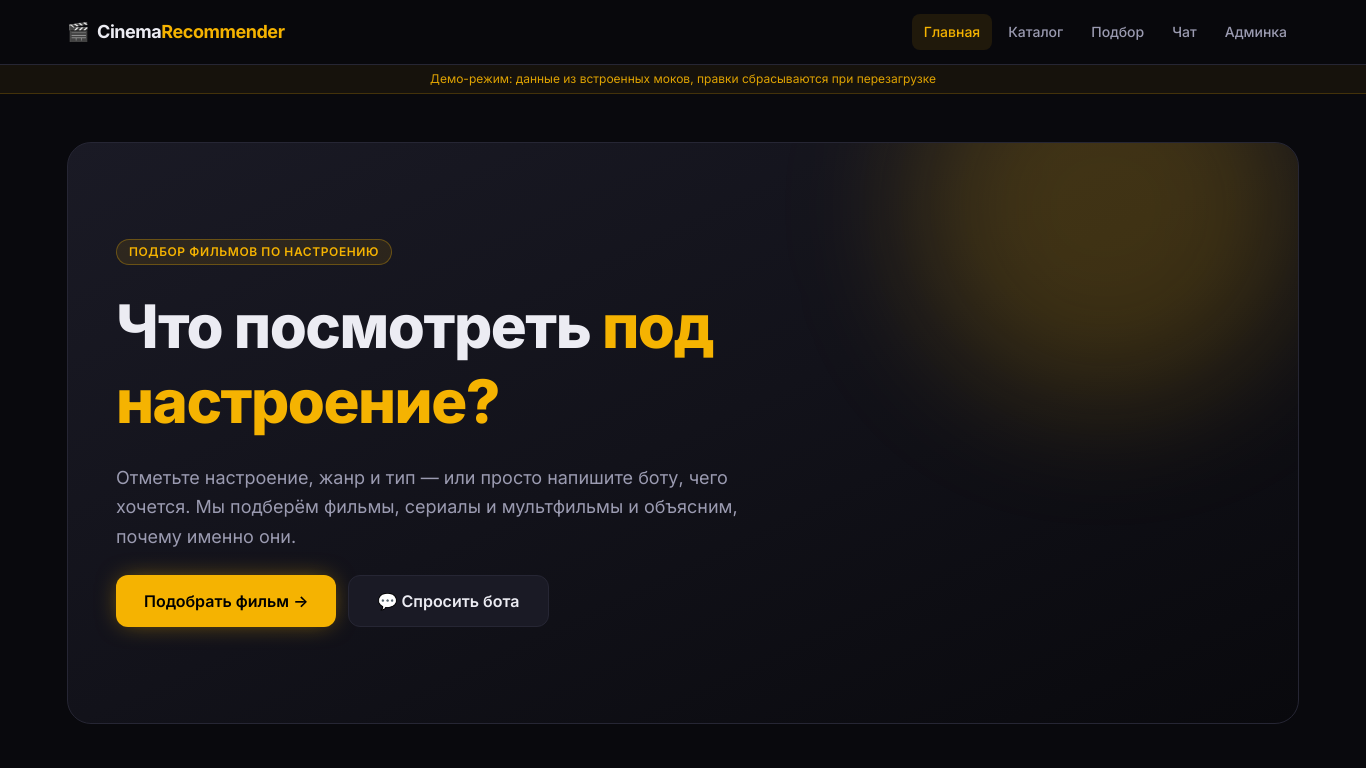
Test case: Навигация › переключает страницы и подсвечивает активный пункт
Expected: the heading reads "Что посмотреть под настроение?", [116,289,788,439]
Click the link "Каталог": (1036, 32) [1008,23,1063,40]
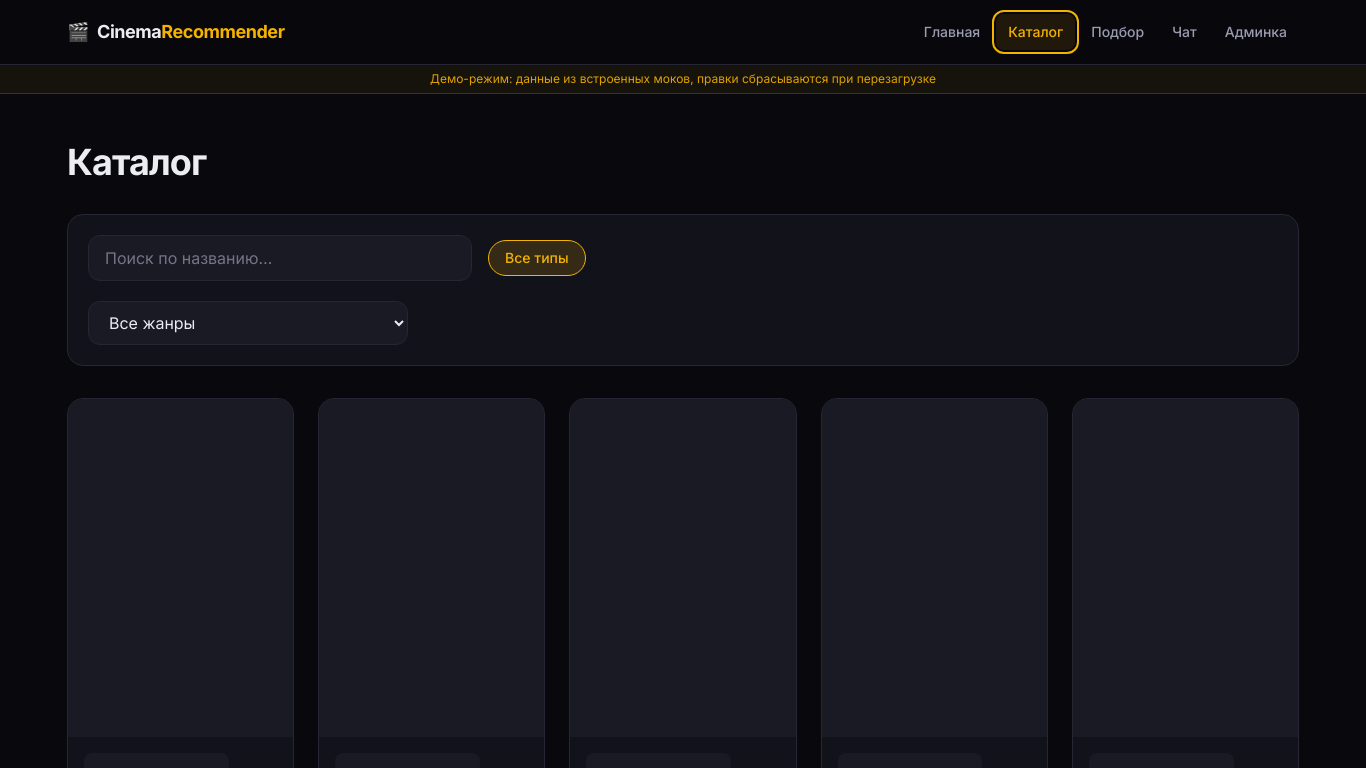
Expected: the heading "Каталог" is shown, [67,142,206,182]
Result: the link "Каталог" is marked as current at [996,14,1075,50]
Result: the link "Главная" does not have attribute aria-current at [924,23,980,40]
Click the link "Подбор": (1118, 32) [1091,23,1144,40]
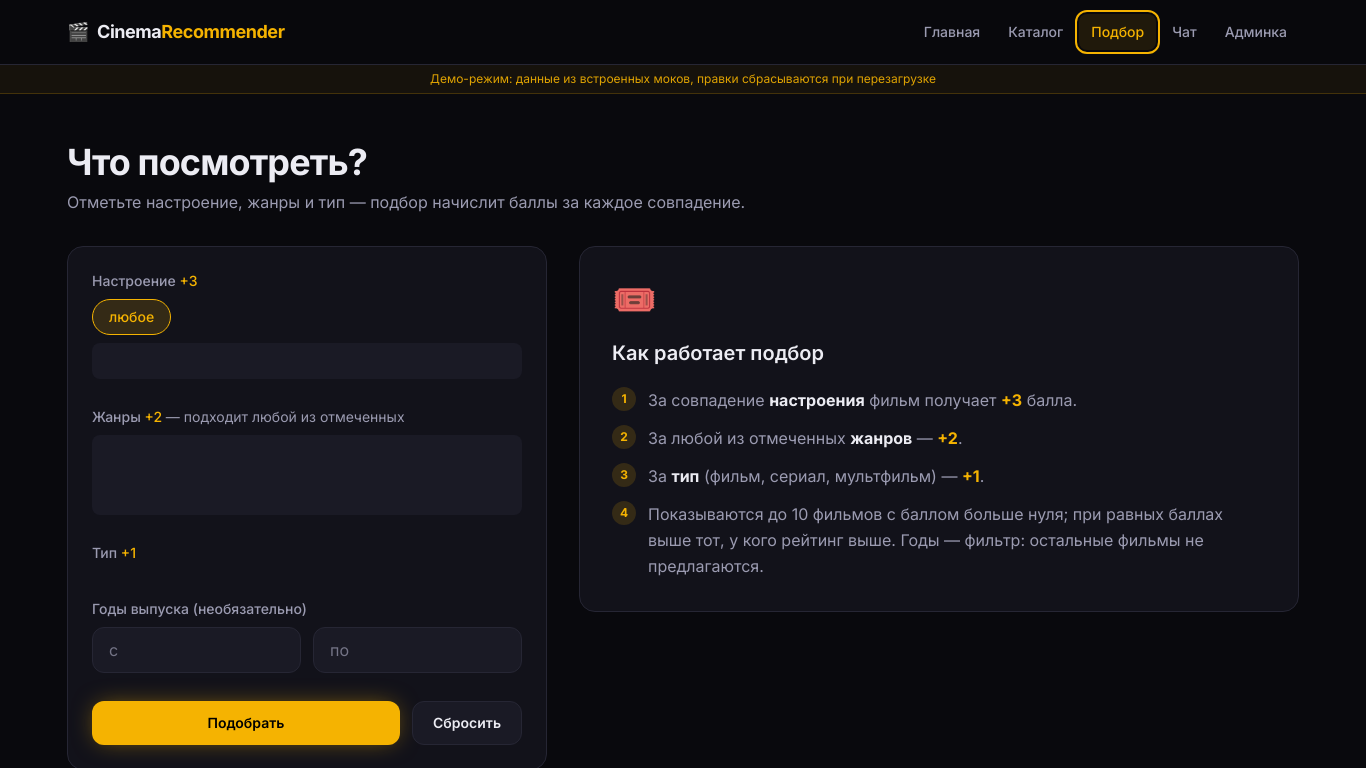
Result: the heading "Что посмотреть?" is shown at [67,140,367,184]
Click the link "Чат": (1184, 32) [1172,23,1197,40]
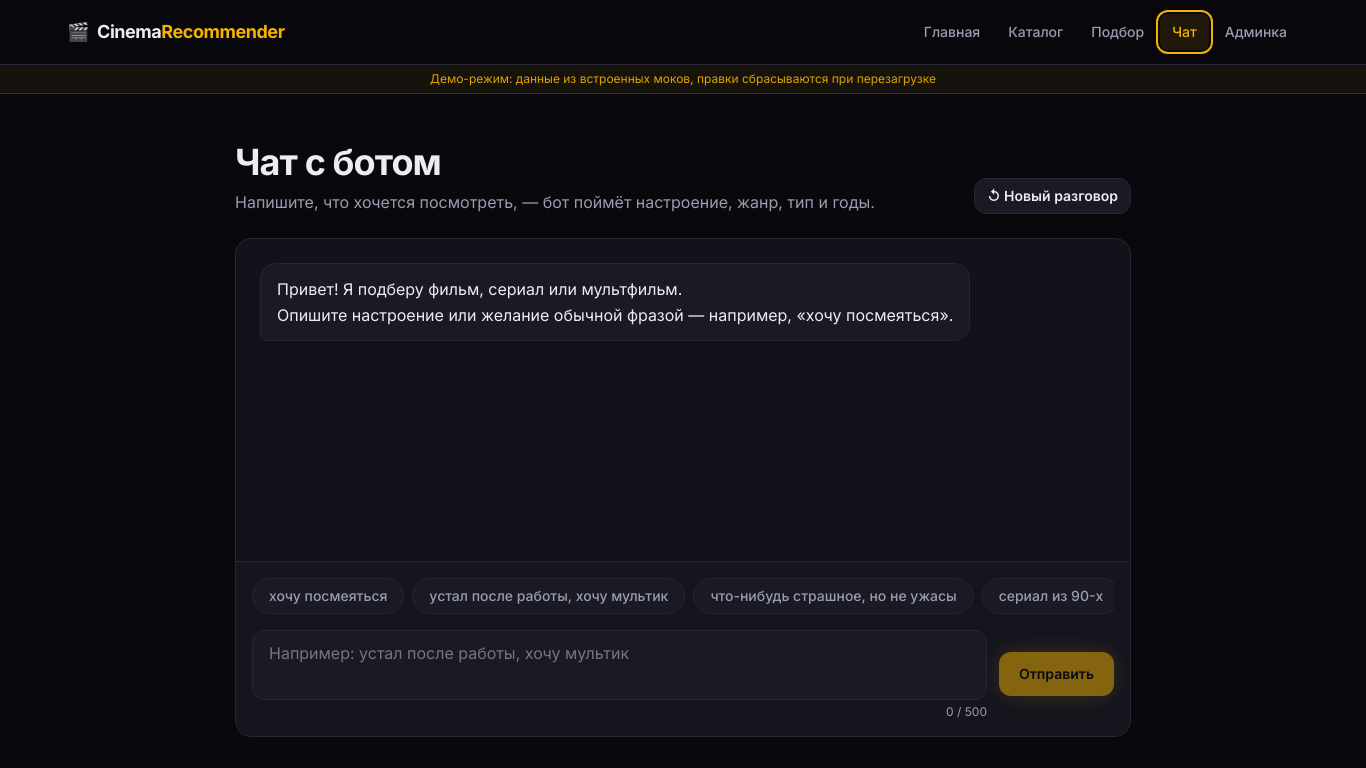
Result: the heading "Чат с ботом" is shown at [235,140,441,184]
Click the link "Админка": (1256, 32) [1225,23,1287,40]
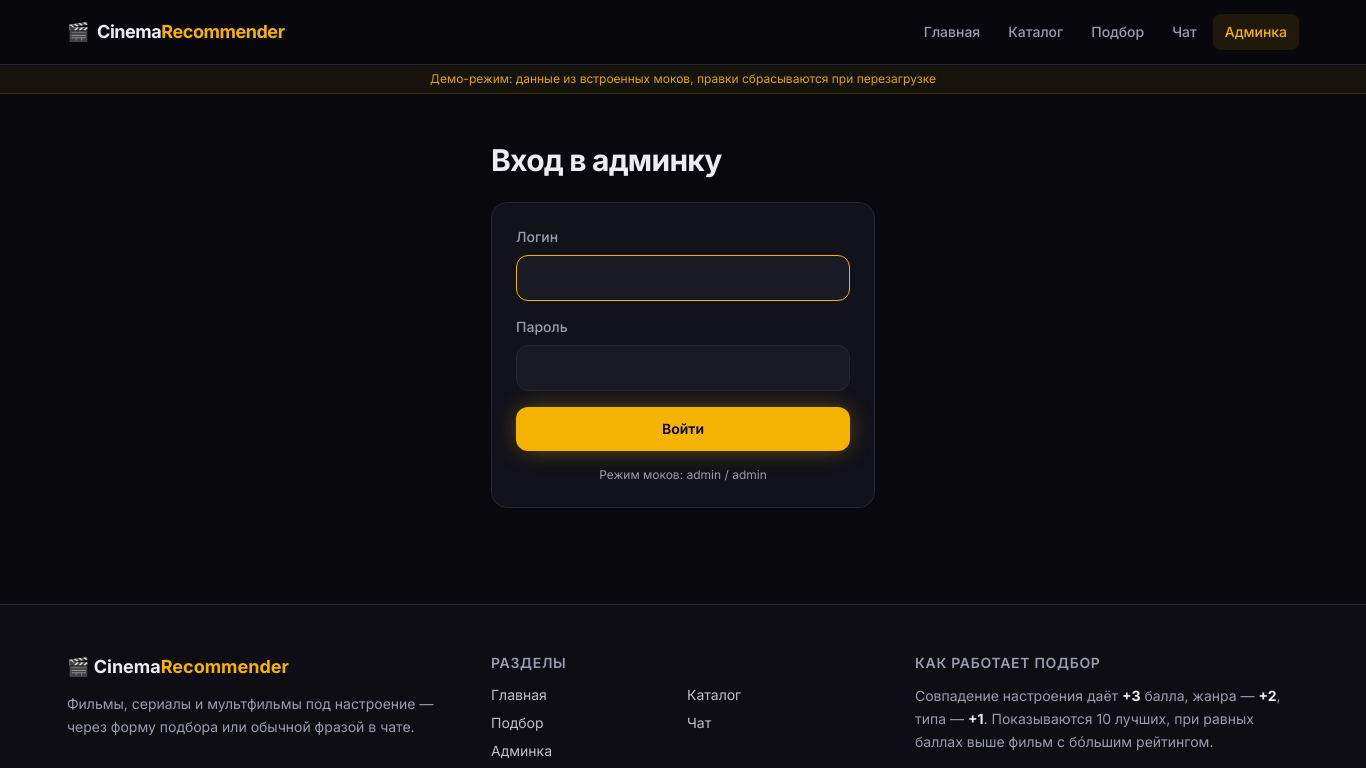
Result: the heading "Вход в админку" is shown at [491,142,722,178]
